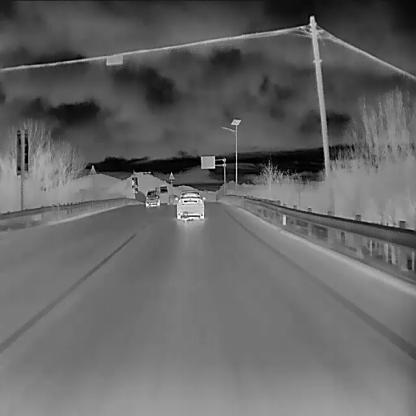car: (174, 190, 206, 218), (144, 190, 160, 206)
